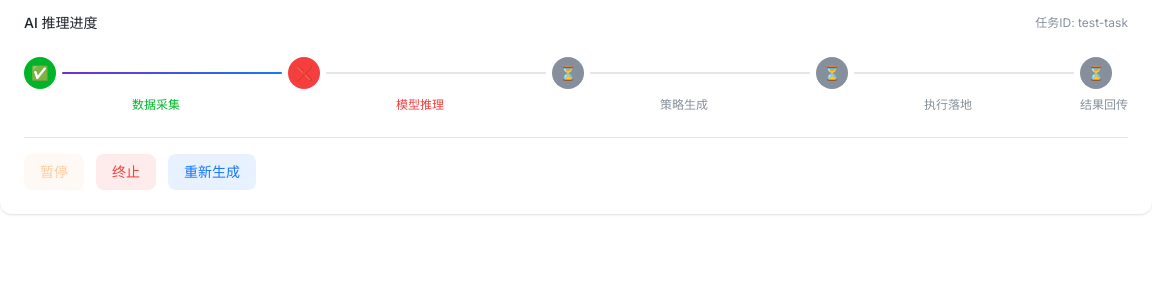
Test: AIStepProgress › expands step details on click for failed step
The width and height of the screenshot is (1152, 304).
Click the button with test id "step-dot-1" at [304, 73], box [288, 57, 320, 89]
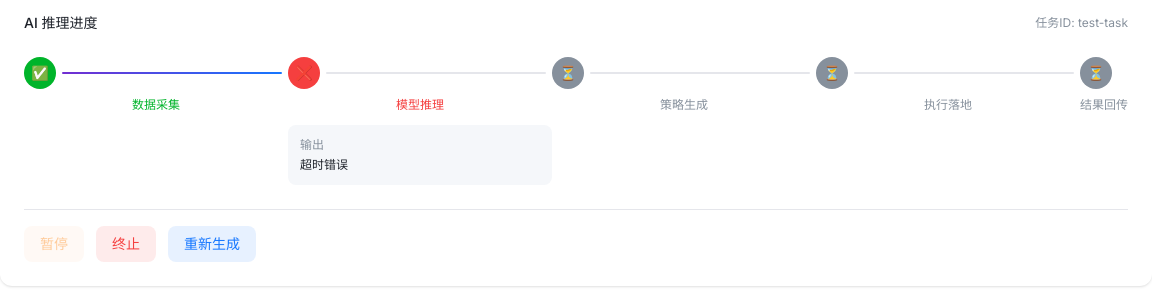
expect the element with test id "step-detail-1" is shown: met, box [288, 125, 552, 185]
expect the element with test id "step-detail-1" shows "超时错误": met, box [300, 157, 348, 172]
